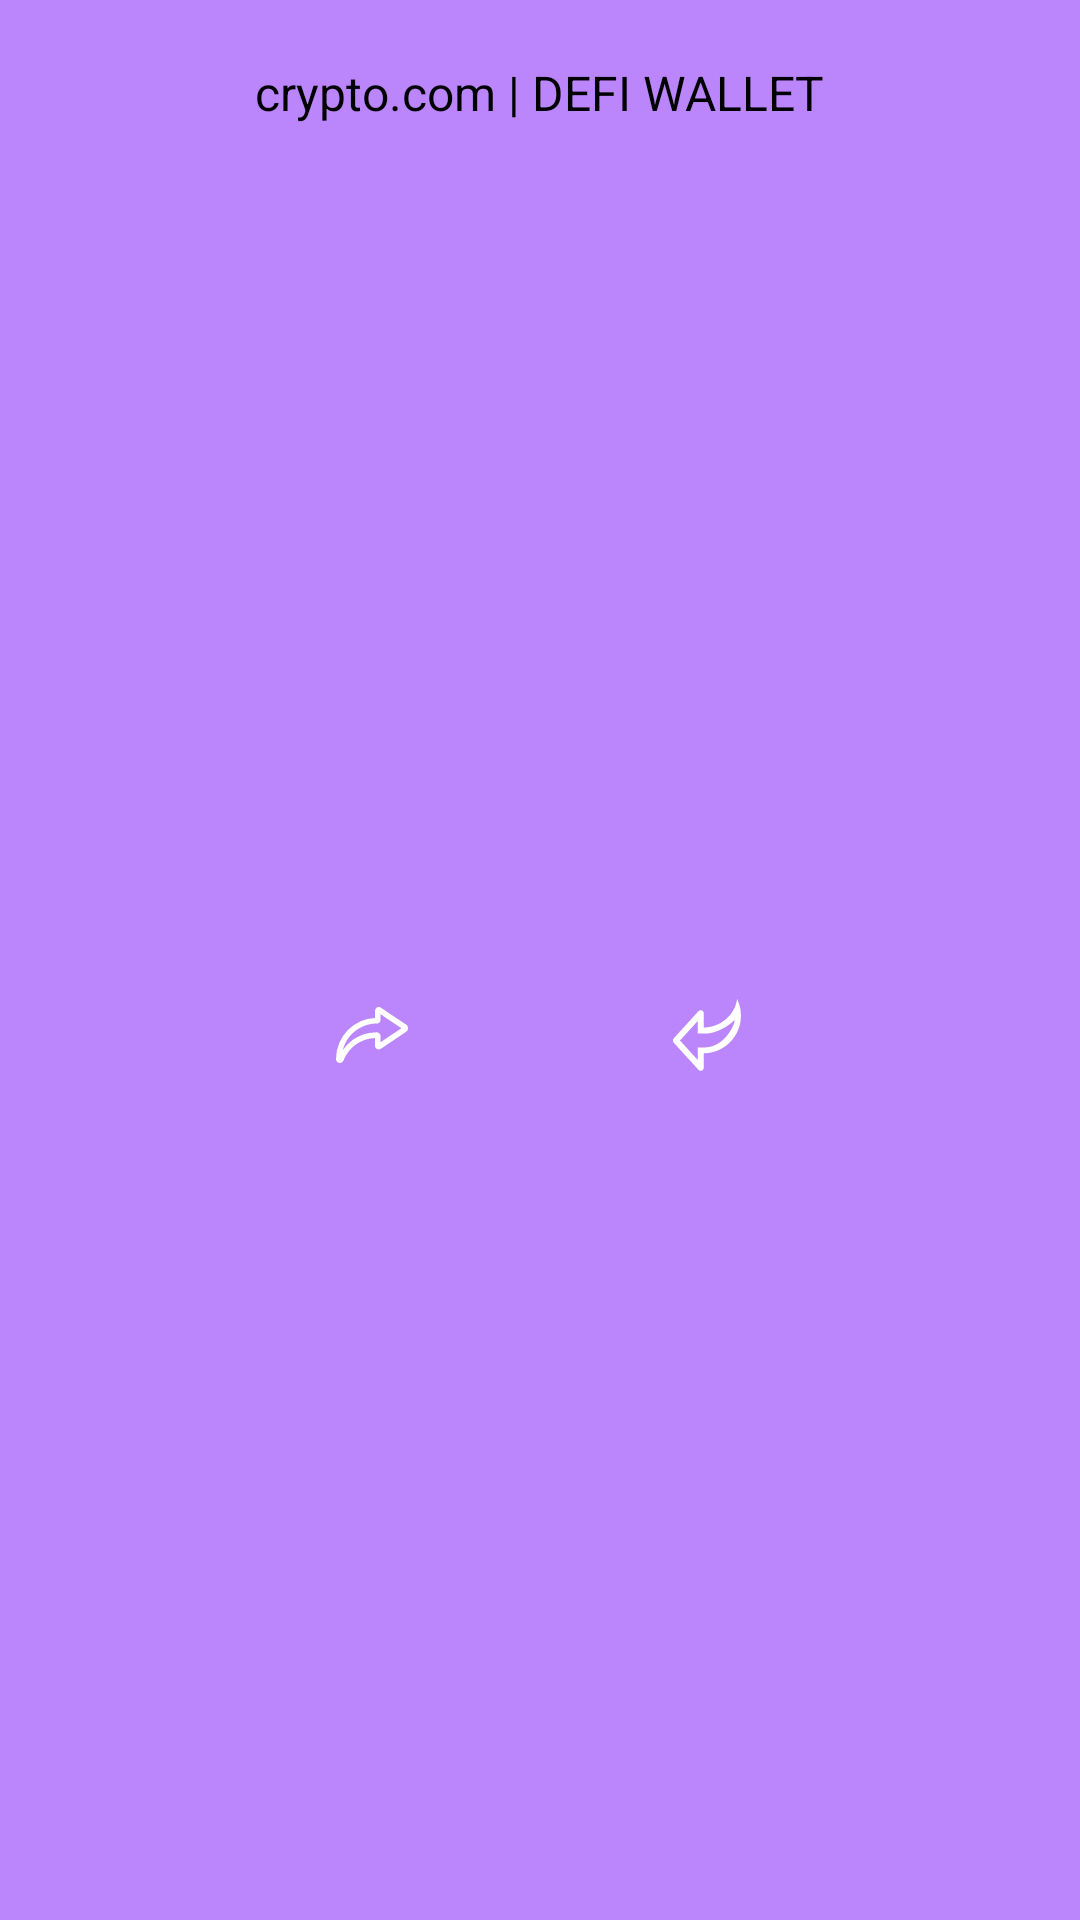

Where to tap for icons on this 1080×1920 app screen, as (x,y):
receive: (707,1035)
send: (372,1035)
